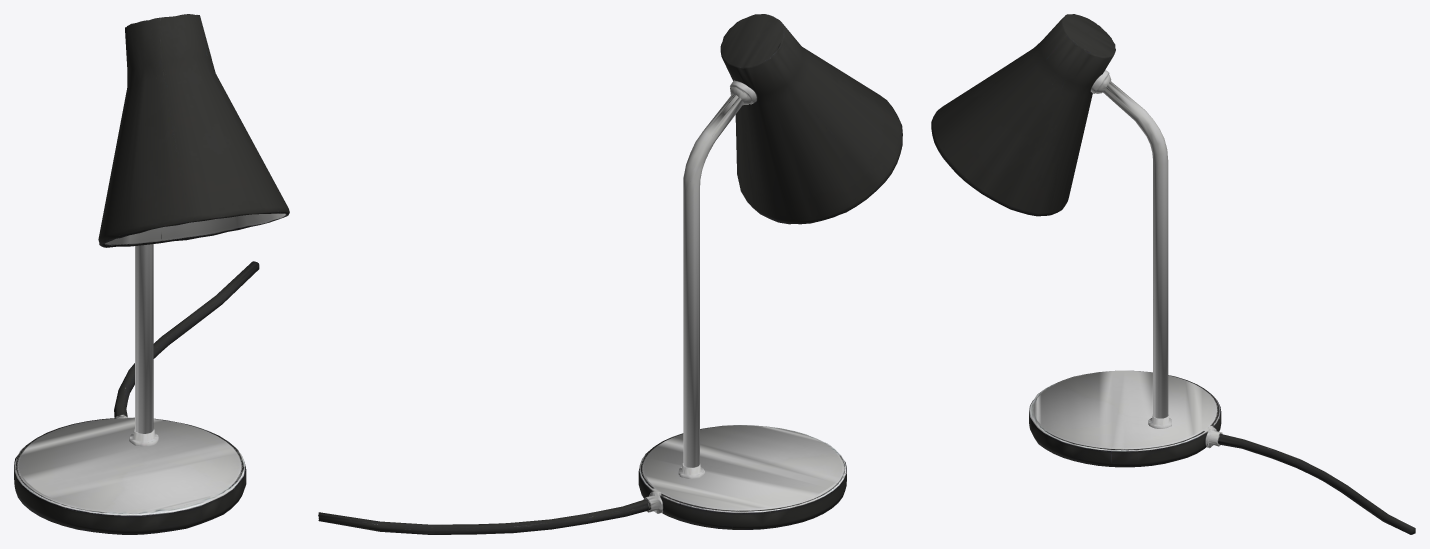
Rendered from original_glb.glb.
The picture shows the model from 3 angles, left to right: view 1: azimuth 30°, elevation 25°; view 2: azimuth 150°, elevation 25°; view 3: azimuth 270°, elevation 25°; orthographic projection. The views are drawn at different scales.
Parts seen in each view (by area): view 1: Obsidian Cone Desk Lamp; view 2: Obsidian Cone Desk Lamp; view 3: Obsidian Cone Desk Lamp.
Part boxes in pixels (box(x1,y1,x2,y2)): Obsidian Cone Desk Lamp: box(14, 14, 289, 534); Obsidian Cone Desk Lamp: box(318, 14, 902, 534); Obsidian Cone Desk Lamp: box(931, 14, 1415, 534).
Size of the model in its own units: 0.791 by 0.9355 by 0.998.
1 material, 1 textured.
